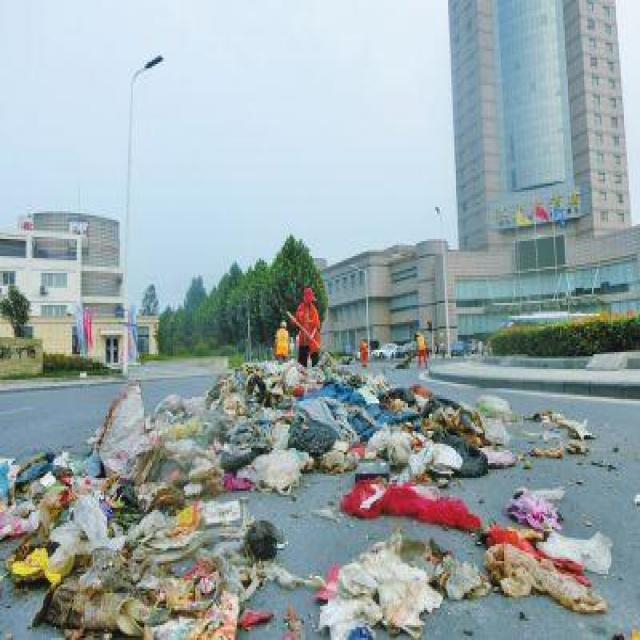garbage: (8, 446, 229, 636), (348, 462, 622, 614), (182, 352, 373, 478), (314, 531, 468, 627), (360, 392, 488, 495), (516, 394, 610, 484)
